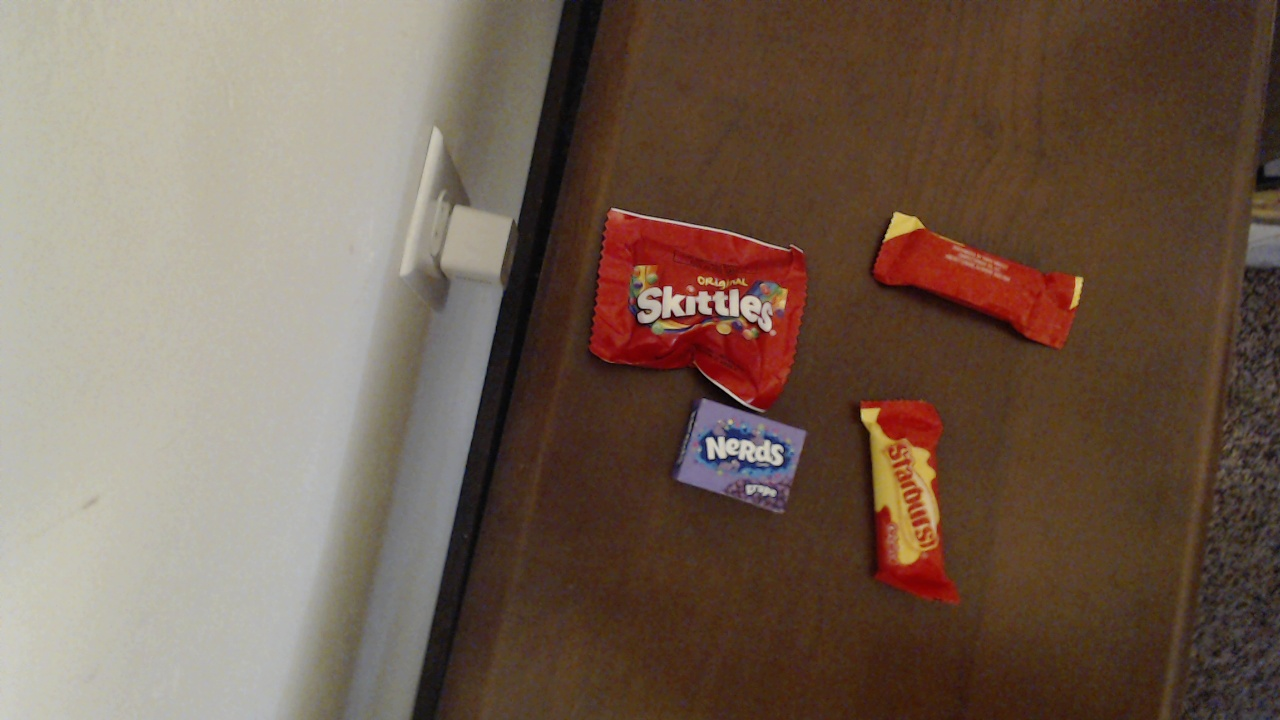nerds: (654, 391, 808, 522)
skittles: (593, 191, 817, 404)
starbust: (865, 178, 1106, 357), (854, 385, 968, 614)
